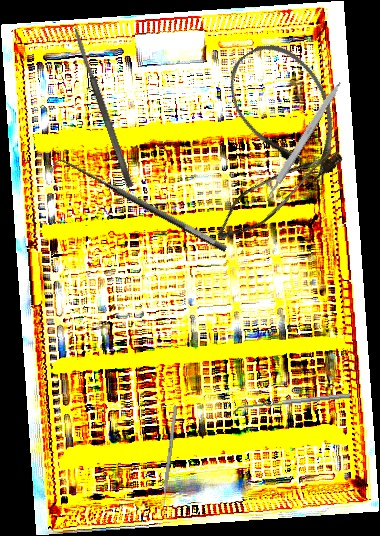Cannula: (212, 28, 364, 198)
Hook Surgical: (47, 149, 229, 266)
Micro Scissor: (209, 122, 340, 259)
Pusher: (160, 405, 178, 515)
Scalpel Handle: (262, 78, 344, 201)
Spatula Surgical: (71, 26, 135, 189), (232, 393, 351, 415)
